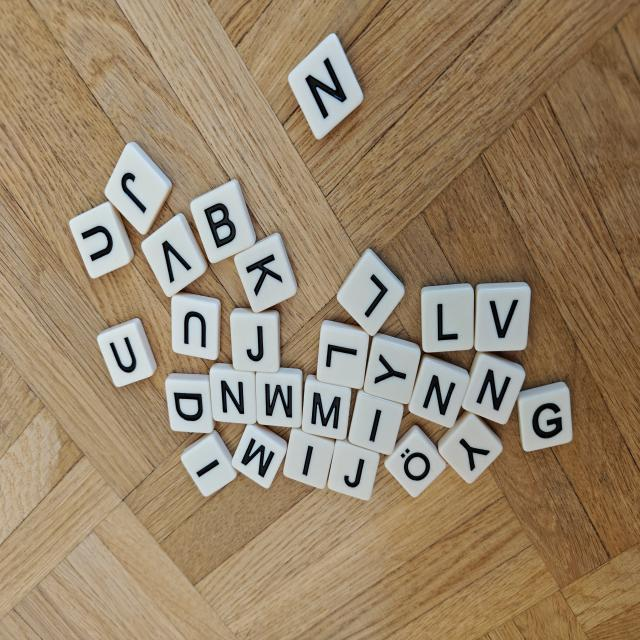b: (190, 179, 256, 263)
d: (165, 373, 215, 433)
g: (518, 382, 572, 451)
i: (181, 430, 237, 496), (348, 390, 403, 454), (283, 428, 335, 488)
j: (105, 142, 172, 234), (230, 308, 280, 372), (328, 441, 379, 500)
k: (234, 233, 297, 312)
l: (337, 249, 405, 336), (421, 283, 474, 353), (316, 320, 369, 389)
m: (232, 423, 287, 489), (302, 375, 351, 439), (256, 368, 303, 428)
n: (288, 34, 363, 139), (462, 352, 525, 424), (409, 354, 470, 427), (210, 364, 258, 424)
o_dot: (385, 425, 446, 497)
u: (69, 202, 134, 278), (97, 318, 157, 387), (172, 293, 221, 360)
v: (141, 213, 207, 297), (474, 282, 531, 351)
y: (438, 411, 502, 483), (363, 333, 421, 404)
